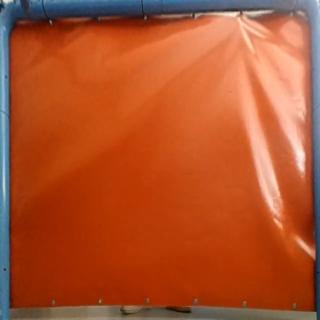Hit-hRxx: (227, 14, 243, 26)
